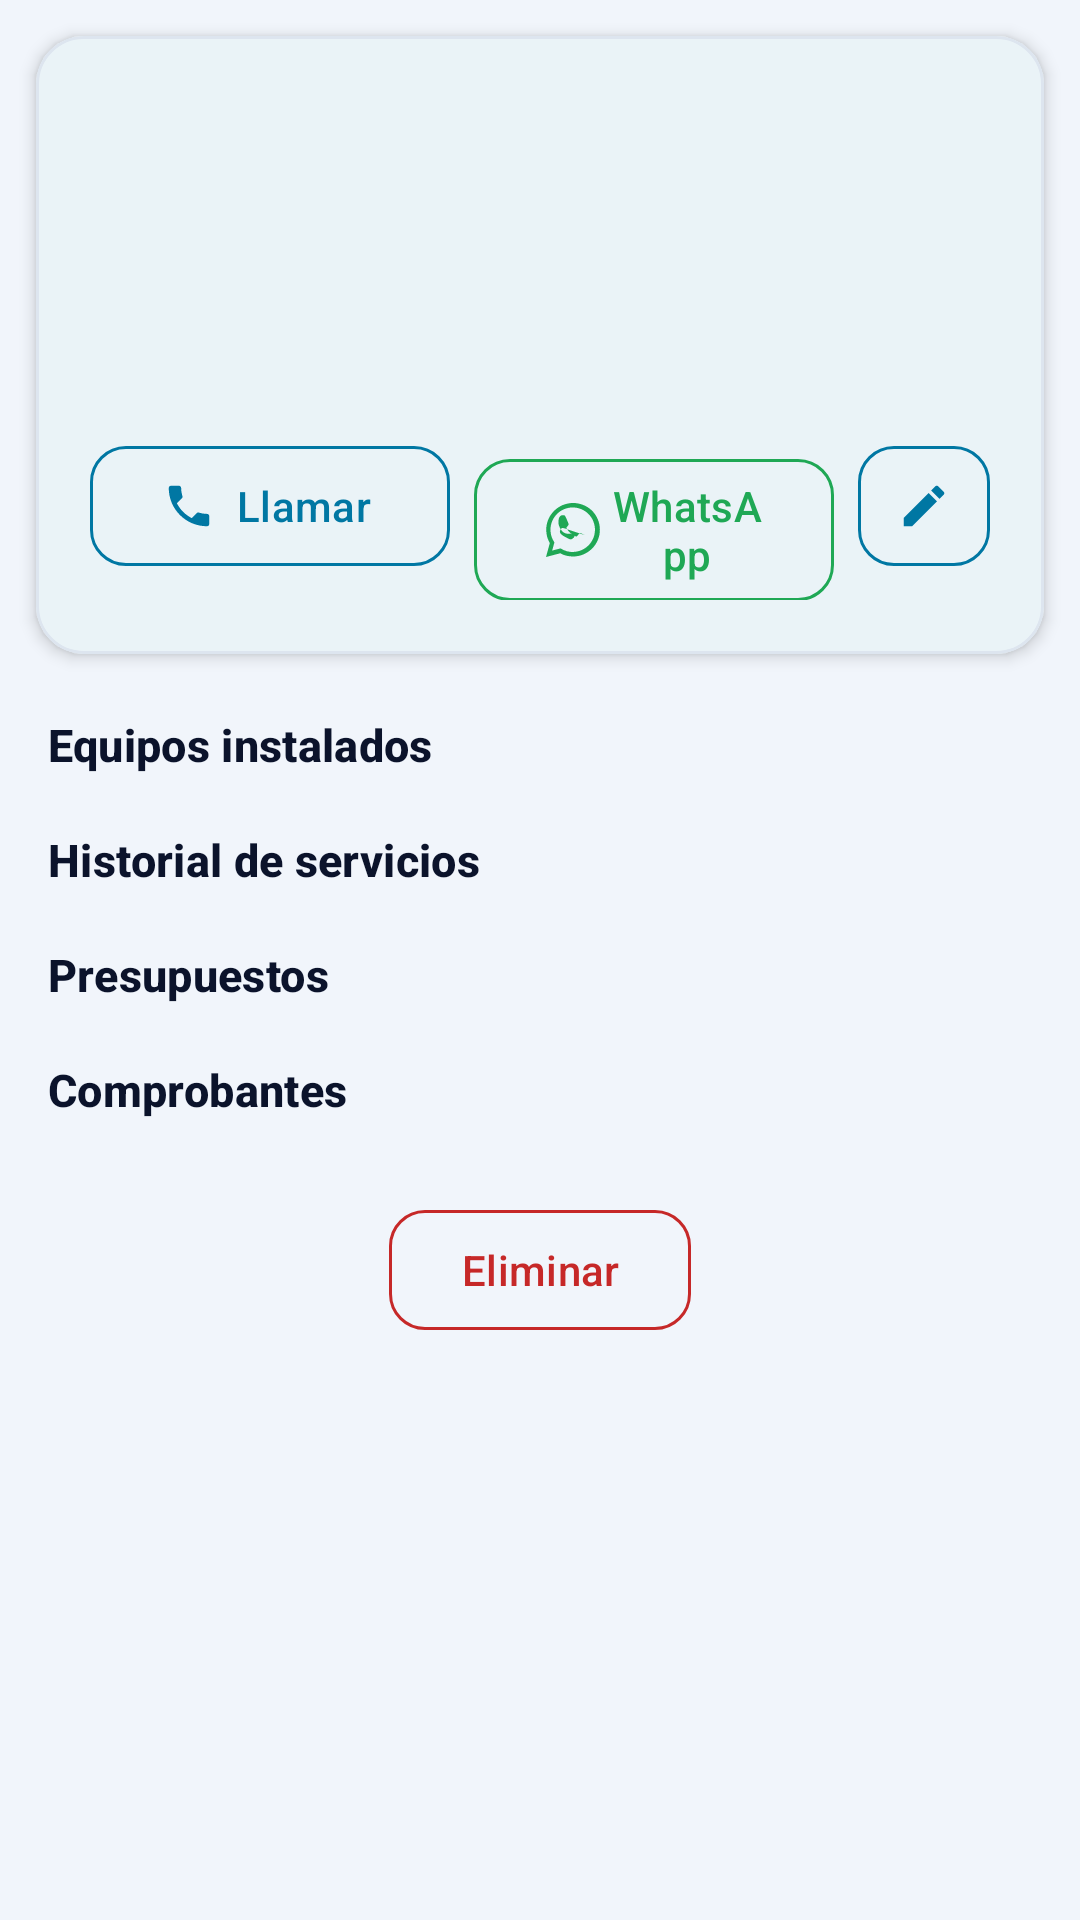

Icon click points for this 1080×1920 phone screenshot, format [x,y]:
Editar: [924,506]
